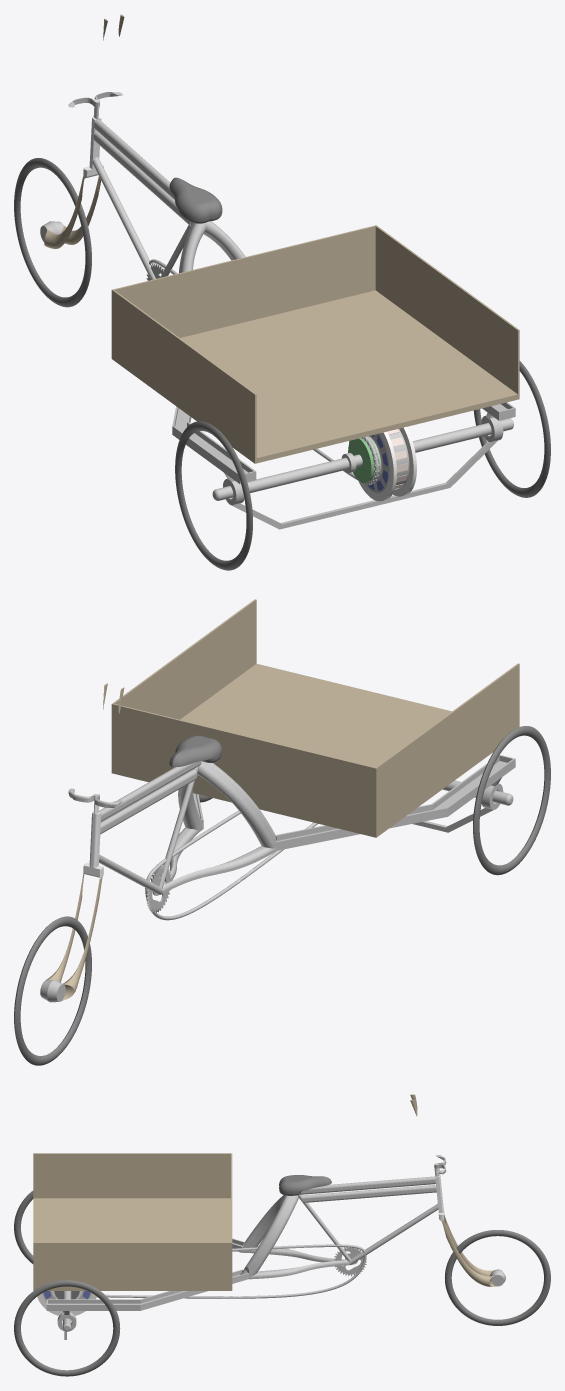
Rendered from tirare.glb.
3 views of the same model, one above another, from view 1: azimuth 30°, elevation 25°; view 2: azimuth 150°, elevation 25°; view 3: azimuth 270°, elevation 25° (orthographic). The views are drawn at different scales.
Visible parts, largest first — view 1: Node6, Node2, Node9, Node1, Node5, Node10; view 2: Node6, Node2, Node9, Node1, Node7; view 3: Node6, Node2, Node9, Node1.
Part boxes in pixels (x1,y1,x2,y2): Node6: (44,14,519,463); Node2: (92,119,513,500); Node9: (14,158,550,570); Node1: (40,92,515,529); Node5: (93,99,416,501); Node10: (348,437,379,483); Node6: (46,599,519,1000); Node2: (98,755,515,894); Node9: (14,726,550,1065); Node1: (40,761,515,1002); Node7: (83,812,103,877); Node6: (33,1094,497,1290); Node2: (42,1176,438,1331); Node9: (14,1175,550,1376); Node1: (46,1155,505,1339).
Size of the model in its own units: 183 by 190 by 405.
